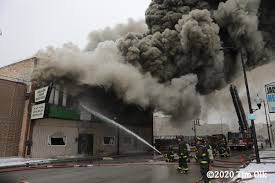smoke: (128, 1, 275, 84), (53, 24, 126, 86), (128, 86, 240, 116)
